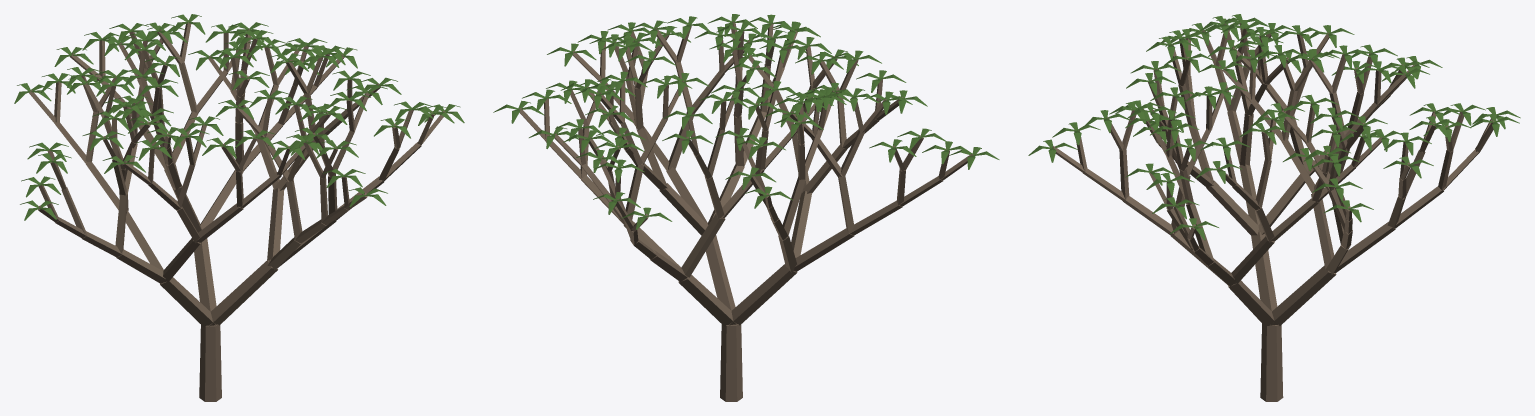
The model's file is frangipani_hoa_su.mid.glb.
3 views of the same model, side by side, from view 1: azimuth 30°, elevation 25°; view 2: azimuth 150°, elevation 25°; view 3: azimuth 270°, elevation 25° (orthographic).
Visible parts, largest first — view 1: frangipani_hoa_su; view 2: frangipani_hoa_su; view 3: frangipani_hoa_su.
Boxes of the visible parts, box(x1,y1,x2,y2) form: frangipani_hoa_su: box(14, 14, 464, 401); frangipani_hoa_su: box(493, 14, 999, 401); frangipani_hoa_su: box(1028, 14, 1520, 401).
Size of the model in its own units: 4.94 by 3.54 by 4.75.
